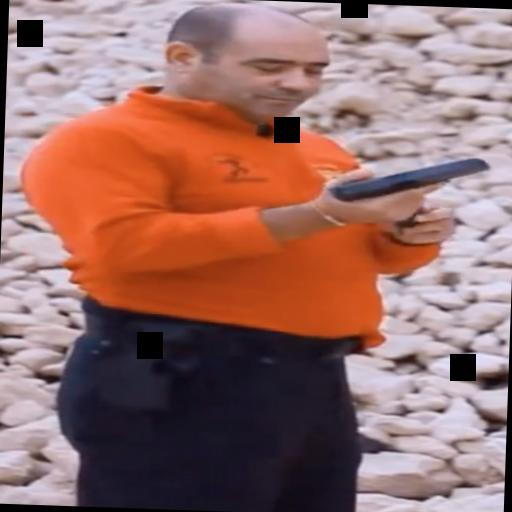Handgun: (324, 148, 489, 226)
